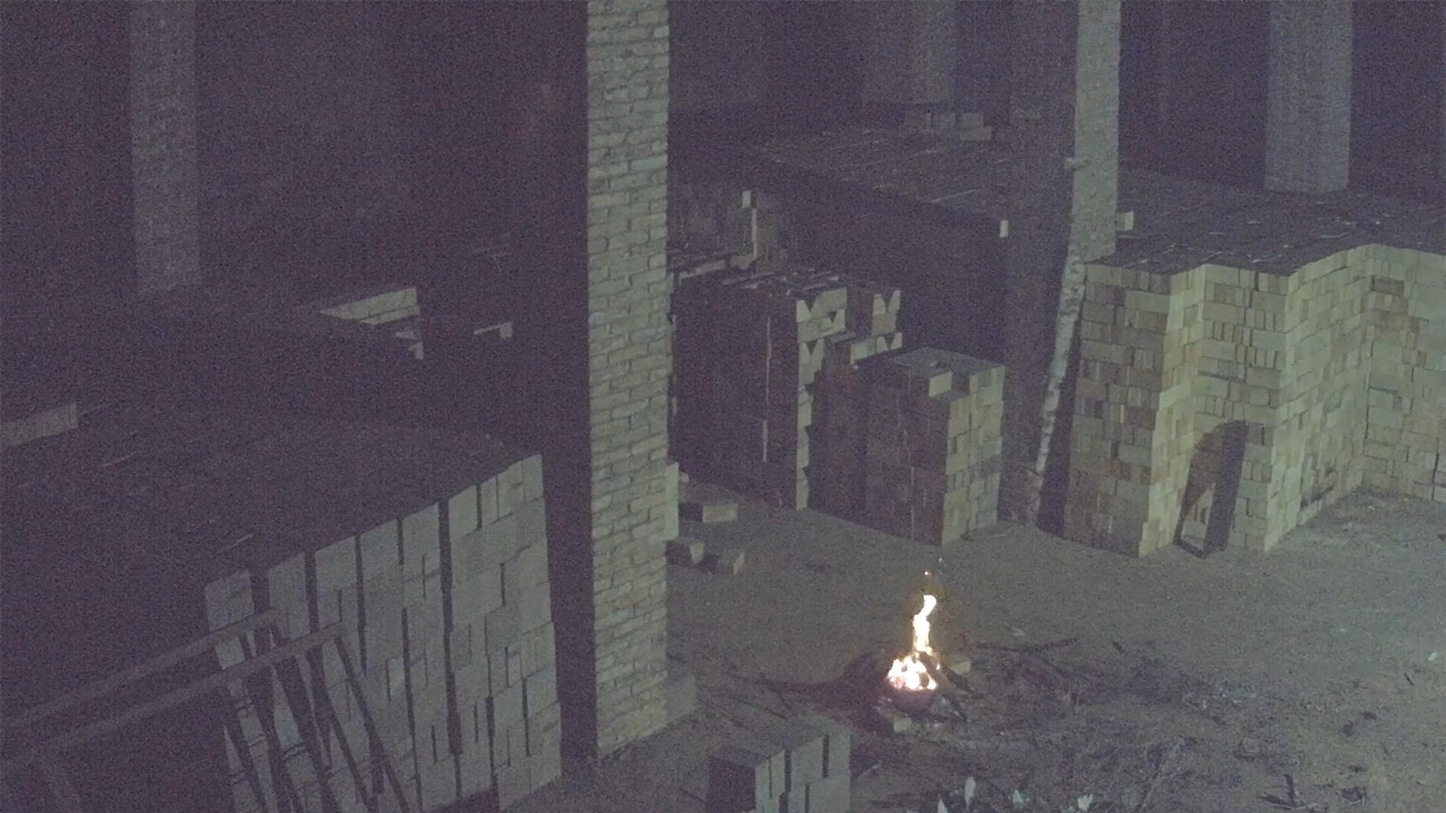fire: (886, 595, 943, 705)
